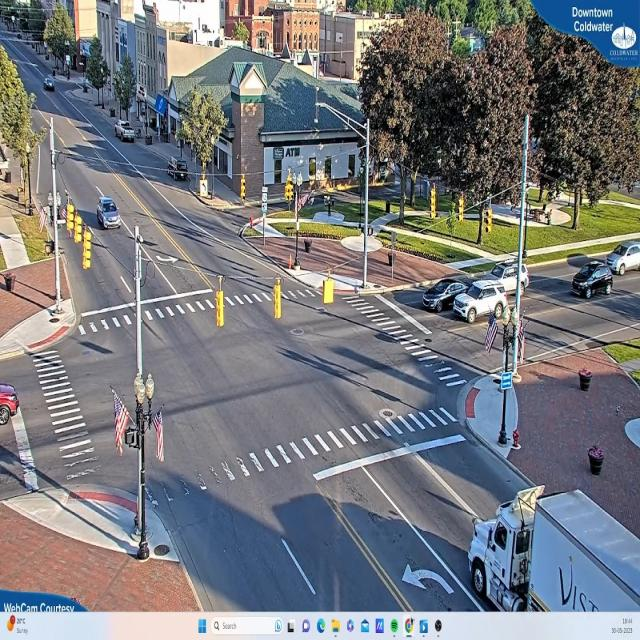car: (453, 285, 512, 326), (421, 279, 471, 312), (572, 262, 614, 300), (485, 264, 531, 298), (607, 242, 639, 274), (96, 197, 122, 230), (1, 384, 22, 424), (117, 122, 137, 145), (45, 81, 57, 92)
